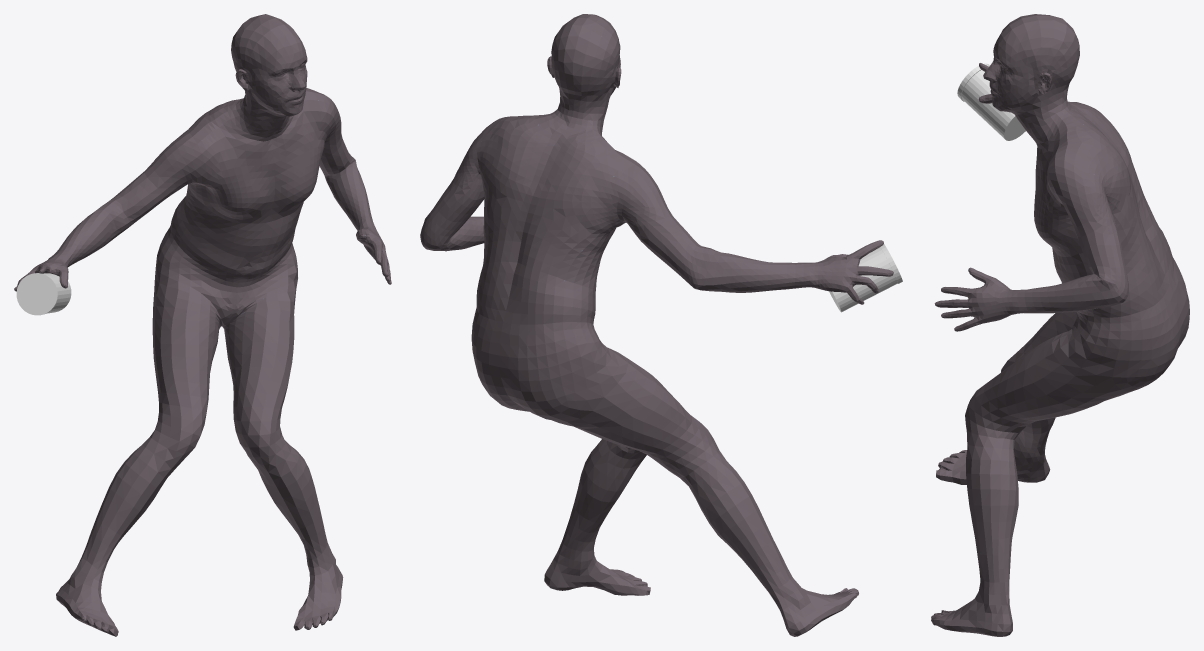
The picture shows the model from 3 angles, left to right: view 1: azimuth 30°, elevation 25°; view 2: azimuth 150°, elevation 25°; view 3: azimuth 270°, elevation 25°; orthographic projection. The views are drawn at different scales.
Visible parts, largest first — view 1: cb.001, 뚜껑; view 2: cb.001, 실린더; view 3: cb.001, 실린더.
Part boxes in pixels (<box>): cb.001: <box>14,14,391,636</box>; 뚜껑: <box>16,273,58,315</box>; cb.001: <box>420,14,893,636</box>; 실린더: <box>829,247,897,312</box>; cb.001: <box>931,14,1189,636</box>; 실린더: <box>961,70,1025,140</box>.
Size of the model in its own units: 5.6 by 7.79 by 3.
Materials: 2 (1 with a texture image).
